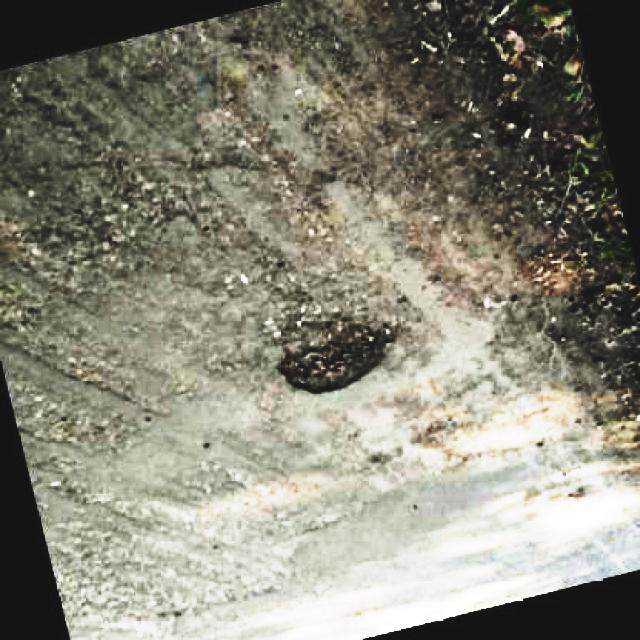pothole: (15, 152, 214, 291), (272, 312, 418, 397)
